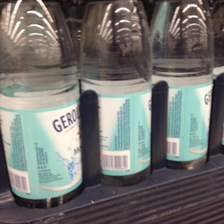water: (1, 1, 80, 209), (80, 1, 153, 185), (150, 1, 214, 172)
